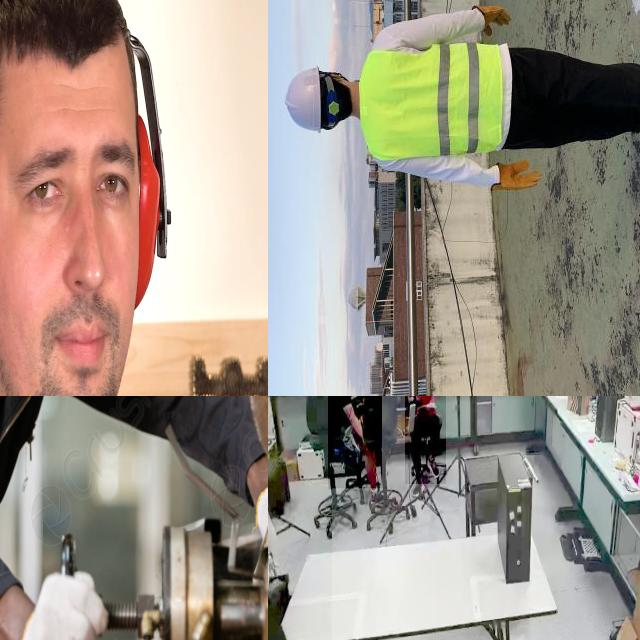Ear-protection: (0, 0, 177, 396)
No_Glasses: (0, 111, 138, 250)
hand_noglove: (416, 403, 428, 412), (413, 396, 423, 404)
head_helmet: (281, 63, 324, 136)
person: (0, 0, 207, 396), (277, 0, 640, 196), (268, 396, 332, 640), (327, 396, 382, 489), (405, 396, 446, 484)
shoes: (425, 450, 443, 480), (411, 472, 429, 502)
vest: (358, 39, 506, 163)
